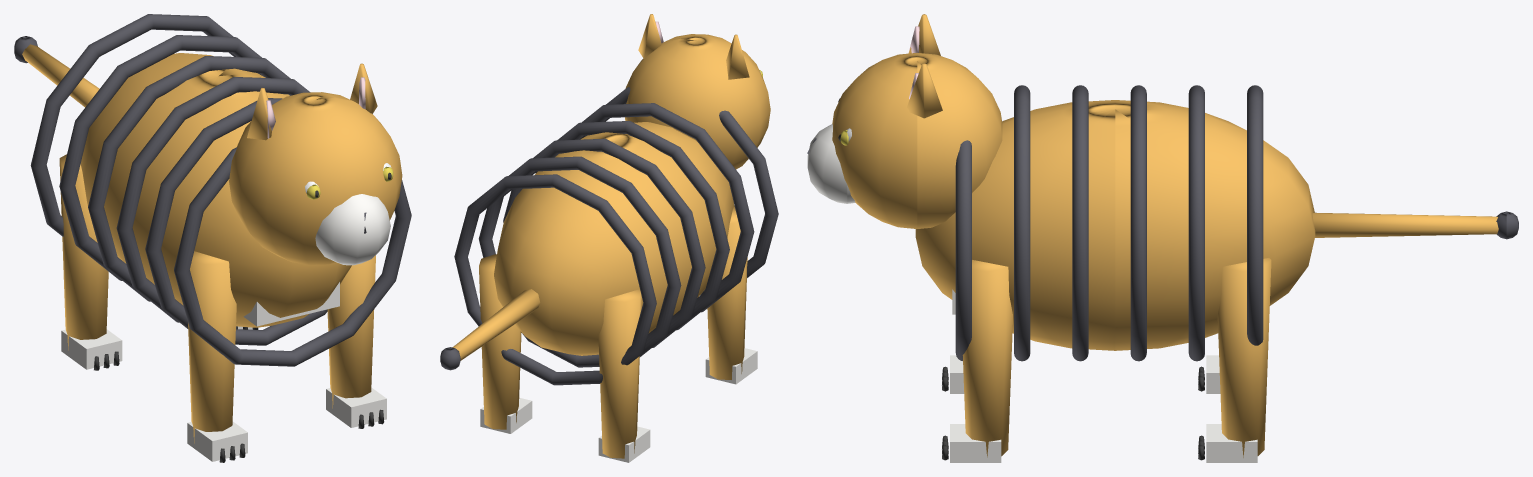
File: 141d33a5-bfb8-48ed-80f8-8fa0a23be560.glb
3 views of the same model, side by side, from view 1: azimuth 30°, elevation 25°; view 2: azimuth 150°, elevation 25°; view 3: azimuth 270°, elevation 25° (orthographic). The views are drawn at different scales.
Visible parts, largest first — view 1: Generated3DMesh; view 2: Generated3DMesh; view 3: Generated3DMesh.
Boxes of the visible parts, left/top/right/bottom form: Generated3DMesh: left=14, top=14, right=411, bottom=462; Generated3DMesh: left=440, top=14, right=778, bottom=462; Generated3DMesh: left=807, top=14, right=1518, bottom=462.
Size of the model in its own units: 1.19 by 1.8 by 3.06.
